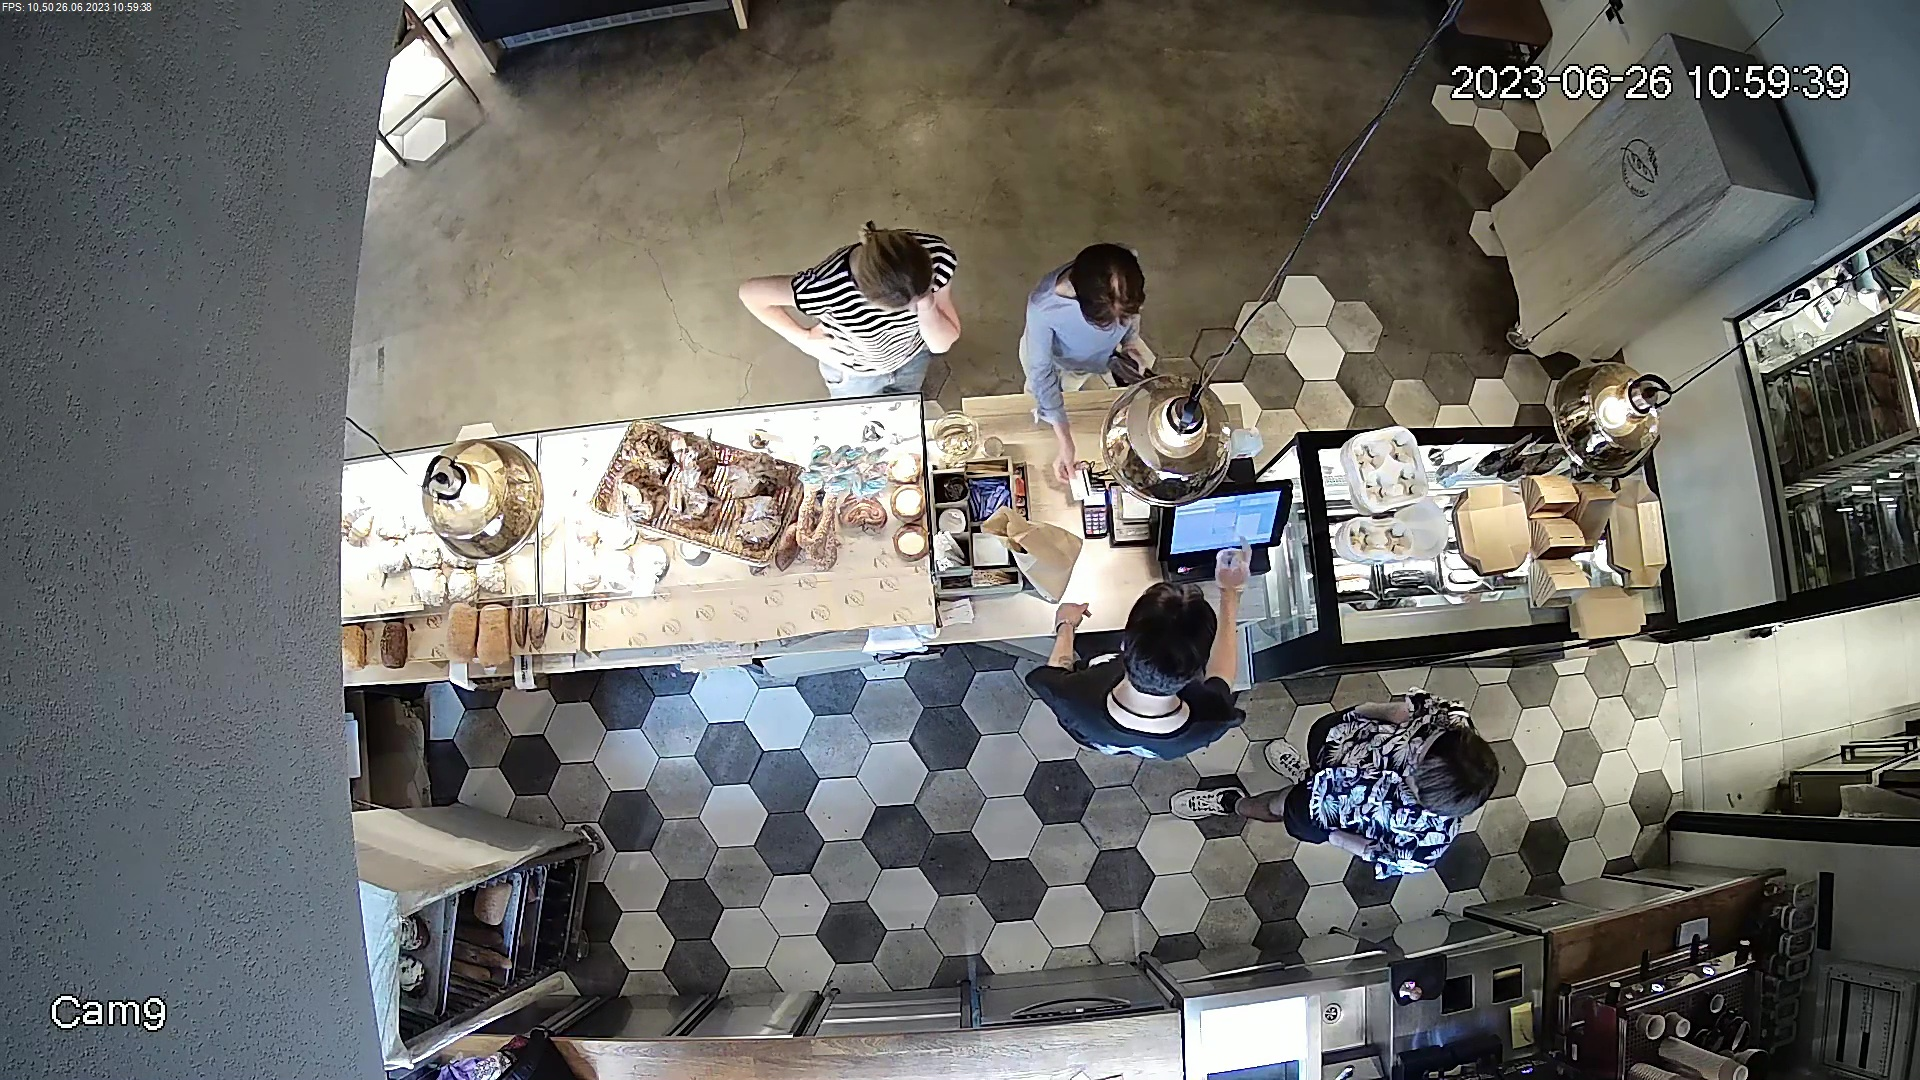pack: (986, 509, 1081, 600)
terminal: (1054, 444, 1112, 535)
